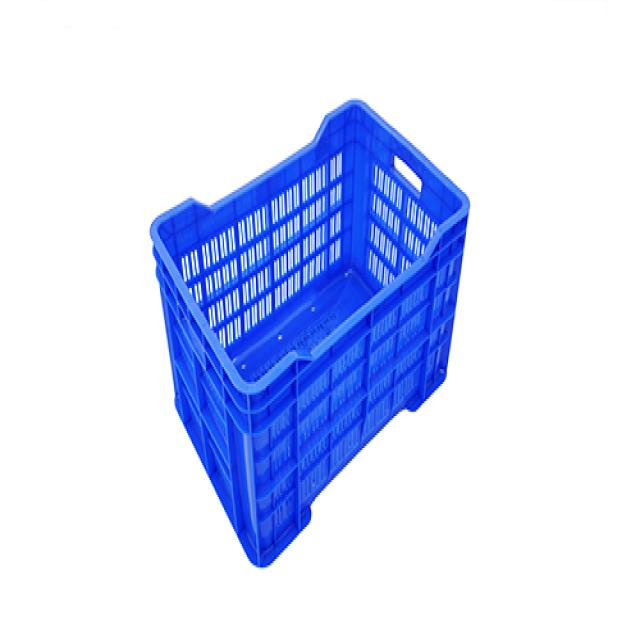basket: (31, 52, 548, 574)
